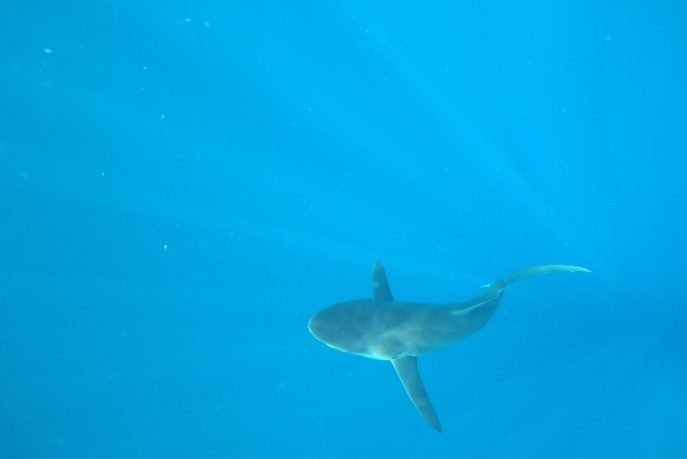Sedoso: (280, 241, 607, 441)
